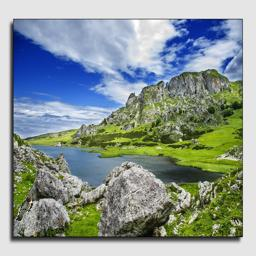Swallow: (15, 196, 33, 221)
